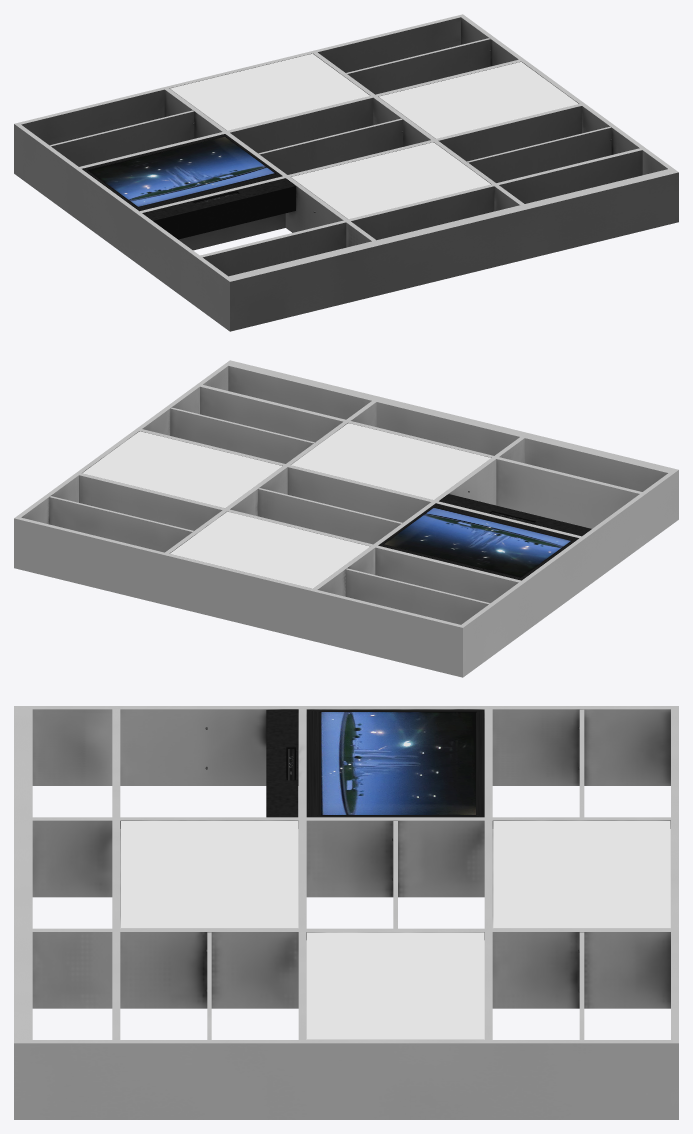
The model's file is shelf3.dae.
3 renders of one model, top to bottom at view 1: azimuth 30°, elevation 25°; view 2: azimuth 150°, elevation 25°; view 3: azimuth 270°, elevation 25°, orthographic. The views are drawn at different scales.
Visible parts, largest first — view 1: shelf; view 2: shelf; view 3: shelf.
Boxes of the visible parts, x1=… form: shelf: x1=14, y1=14, x2=678, y2=331; shelf: x1=14, y1=360, x2=678, y2=677; shelf: x1=14, y1=706, x2=678, y2=1119.
Bounding box in the file's own units: 3 × 2.5 × 0.318.
3 materials, 2 textured.
